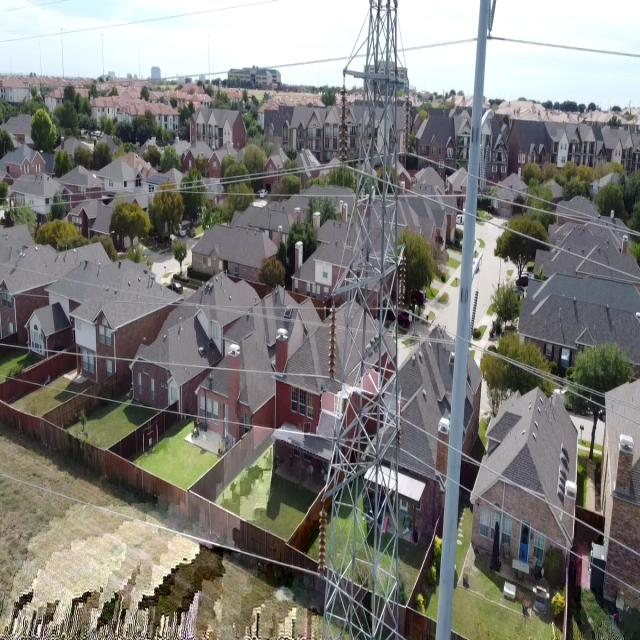杆塔: (320, 0, 407, 640)
正常电缆: (418, 451, 639, 603), (414, 417, 640, 562), (424, 312, 640, 435), (54, 482, 309, 583), (410, 183, 639, 285), (422, 147, 640, 243), (37, 371, 314, 445), (45, 257, 315, 326), (70, 343, 313, 389)
正常绝缘子: (336, 72, 351, 172), (325, 295, 338, 388), (317, 498, 329, 584), (400, 84, 413, 163), (396, 247, 407, 316), (396, 400, 403, 445)
